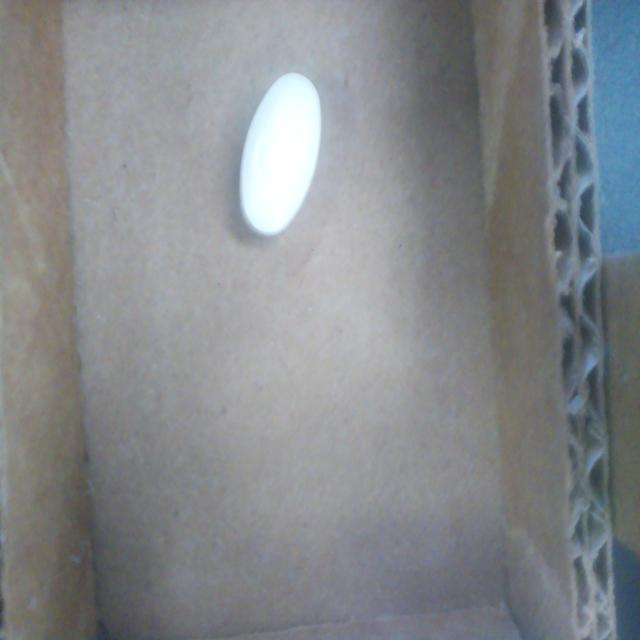pill: (240, 72, 321, 237)
